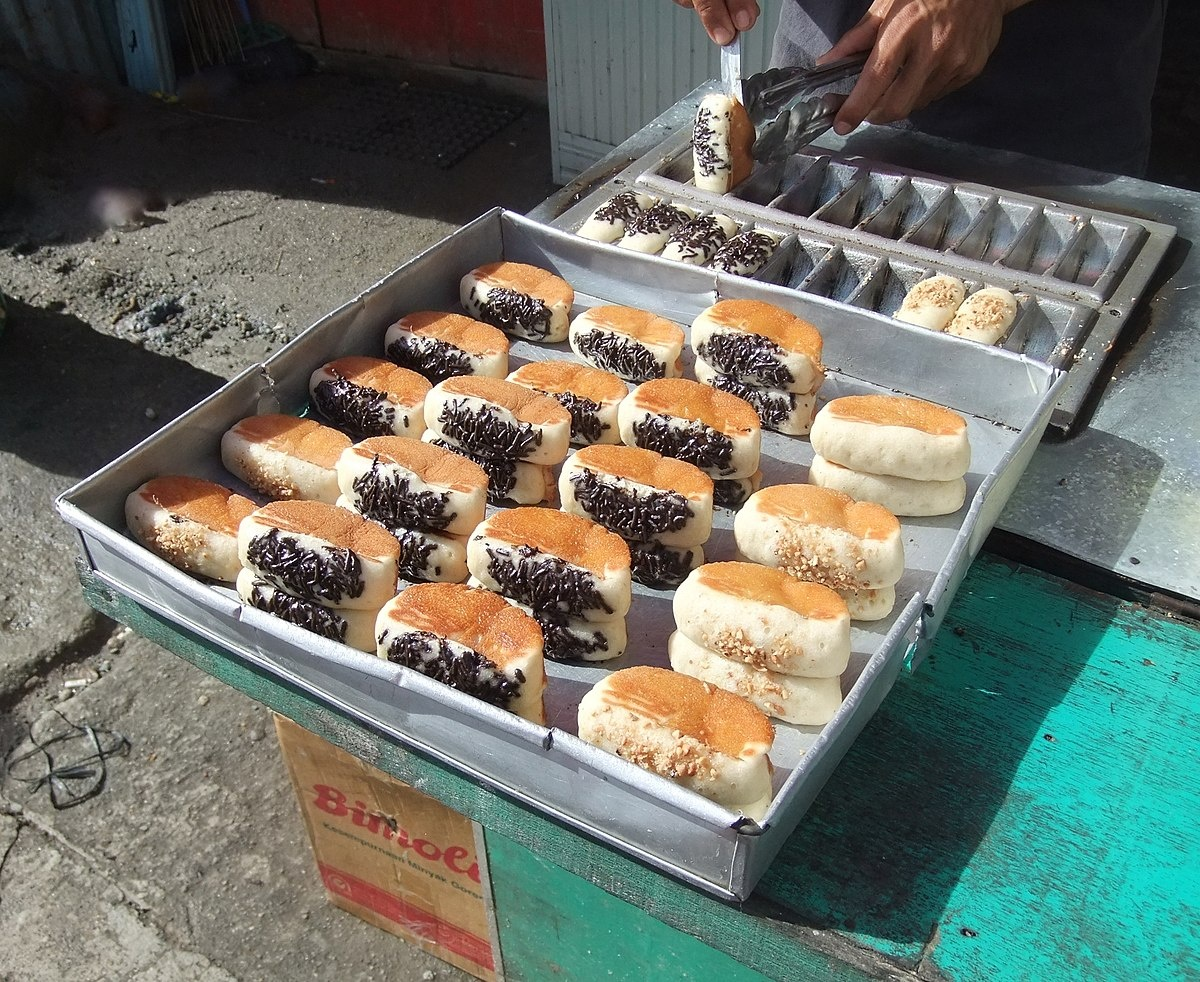pukis: (552, 652, 812, 796), (690, 549, 897, 684), (394, 580, 554, 702), (812, 391, 987, 501), (423, 376, 600, 470)
